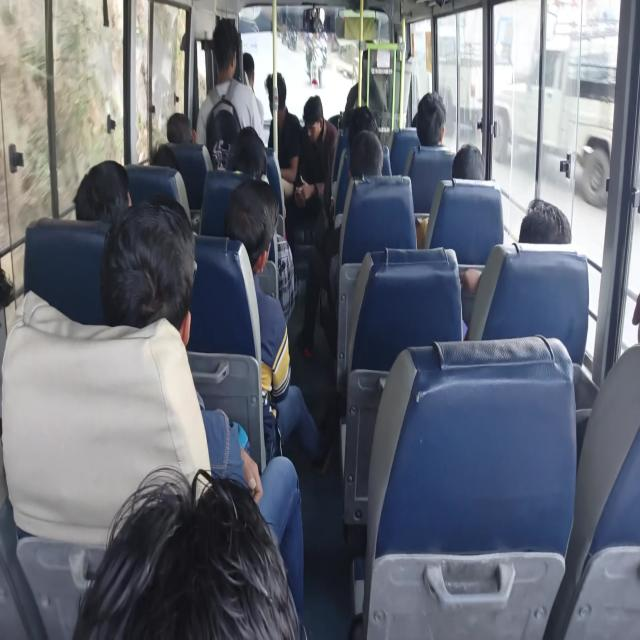person: (104, 466, 370, 640), (106, 202, 188, 374), (68, 140, 143, 242), (218, 174, 272, 251), (520, 195, 566, 254), (210, 31, 246, 100), (0, 264, 33, 331), (355, 133, 385, 204), (227, 127, 263, 178), (421, 92, 448, 154), (621, 279, 640, 356), (305, 94, 332, 144), (266, 75, 292, 126), (455, 144, 478, 187), (342, 108, 376, 136), (172, 107, 195, 143), (239, 50, 260, 85), (146, 141, 168, 167), (409, 110, 424, 132)
